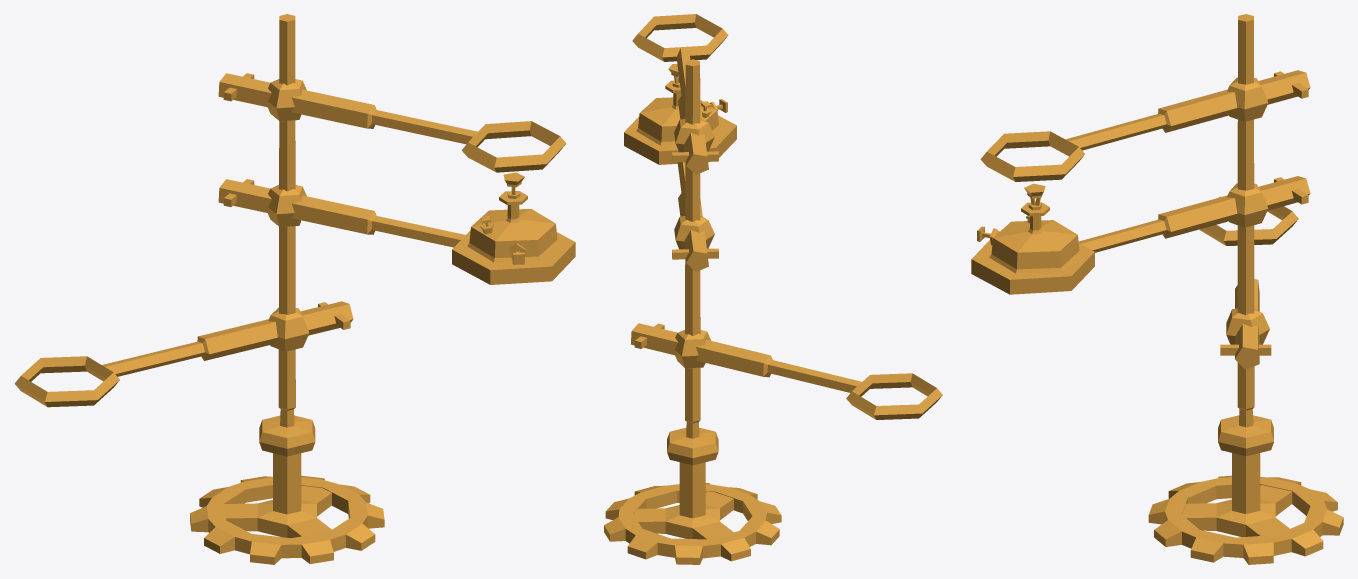
Rendered from SM_Stand_Alchemy_B.fbx.
3 renders of one model, left to right at view 1: azimuth 30°, elevation 25°; view 2: azimuth 150°, elevation 25°; view 3: azimuth 270°, elevation 25°, orthographic. The views are drawn at different scales.
Parts seen in each view (by area): view 1: stand-alchemy-b; view 2: stand-alchemy-b; view 3: stand-alchemy-b.
Part boxes in pixels (x1=…): stand-alchemy-b: x1=14, y1=14, x2=575, y2=564; stand-alchemy-b: x1=604, y1=14, x2=942, y2=564; stand-alchemy-b: x1=971, y1=14, x2=1343, y2=564.
Bounding box in the file's own units: 0.8583 × 0.962 × 0.6413.
